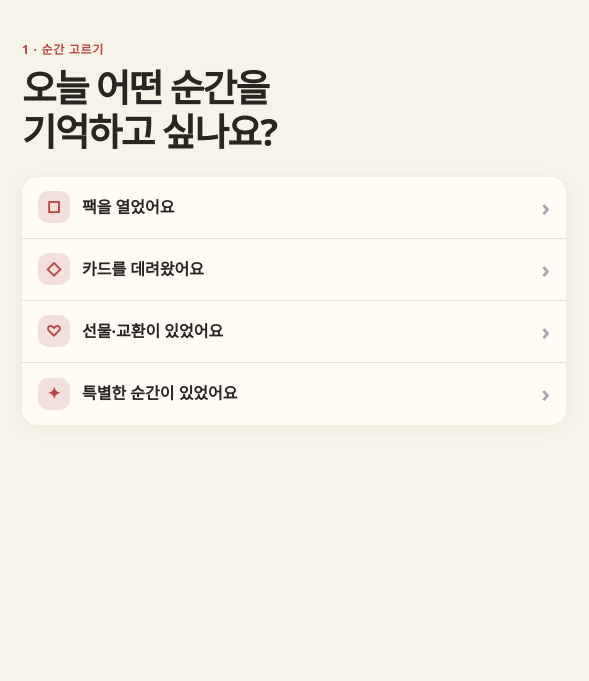
shows a check when a card is selected
The width and height of the screenshot is (589, 681).
Step 1. Click the button "◇ 카드를 데려왔어요 ›" → [54, 269], box left=22, top=239, right=566, bottom=301
(page scrolled)
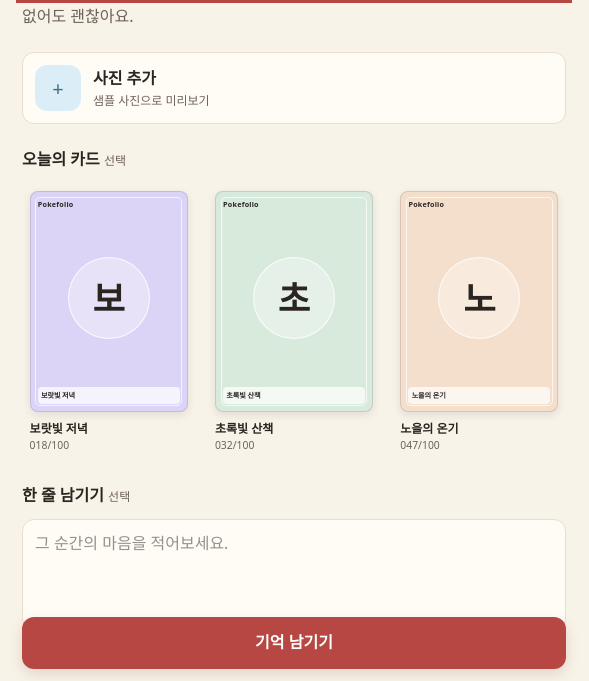
Step 2. Click the button "Pokefolio 보 보랏빛 저녁 보랏빛 저녁 018/100" → [109, 322], box left=22, top=183, right=195, bottom=460
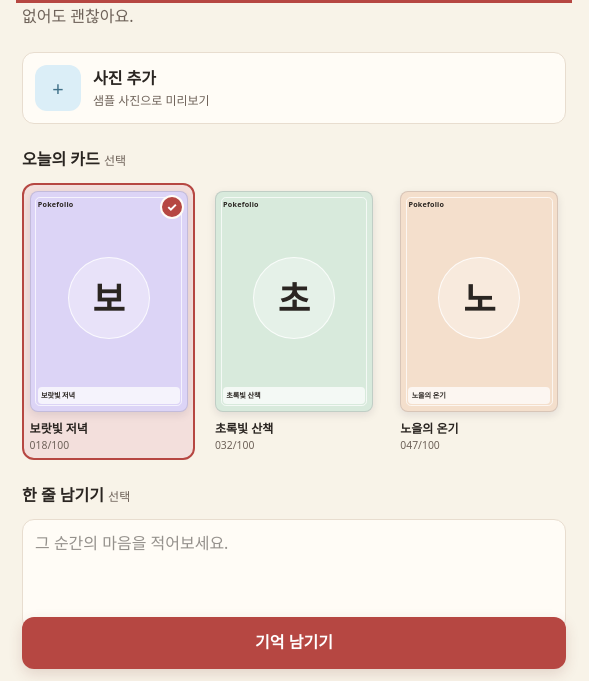
Check: the text "✓" is shown, box left=160, top=195, right=184, bottom=219
